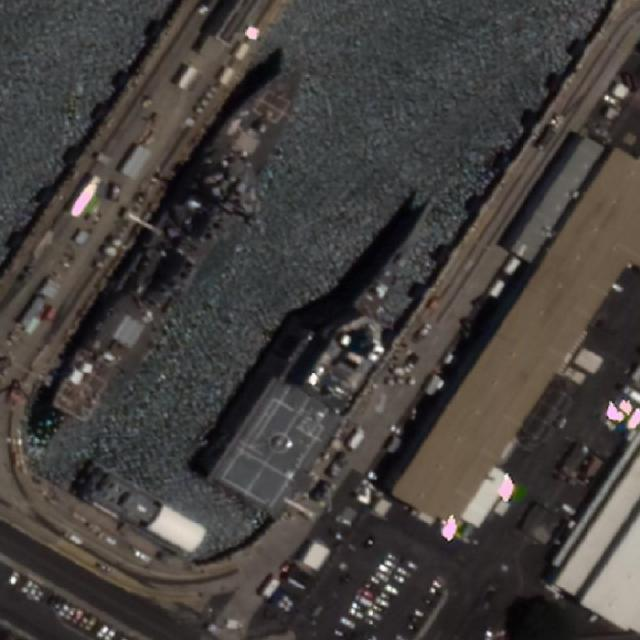Destroyer: (47, 51, 319, 429)
Frigate: (206, 169, 468, 523)
